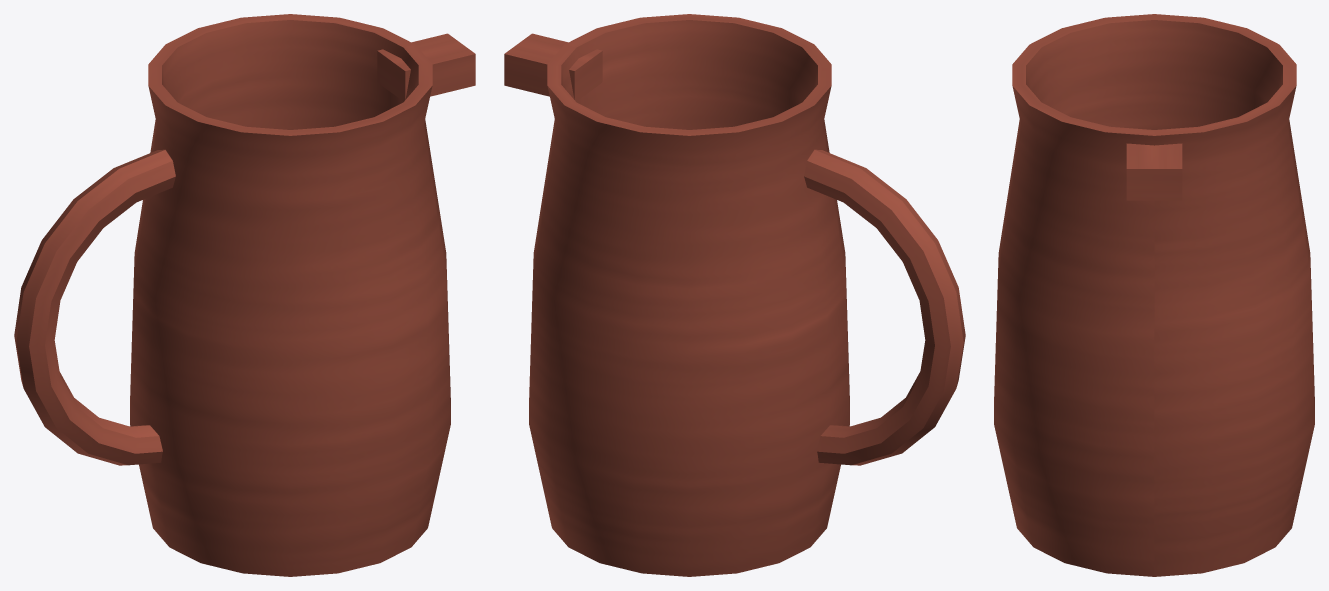
File: SM_Pitcher_Red.fbx
The picture shows the model from 3 angles, left to right: view 1: azimuth 30°, elevation 25°; view 2: azimuth 150°, elevation 25°; view 3: azimuth 270°, elevation 25°; orthographic projection.
Visible parts, largest first — view 1: SM_Pitcher_Red; view 2: SM_Pitcher_Red; view 3: SM_Pitcher_Red.
Boxes of the visible parts, box(x1,y1,x2,y2) form: SM_Pitcher_Red: box(14, 14, 475, 576); SM_Pitcher_Red: box(504, 14, 965, 576); SM_Pitcher_Red: box(994, 14, 1314, 576).
Size of the model in its own units: 0.221 by 0.21 by 0.1379.
Materials: 1 (1 with a texture image).
